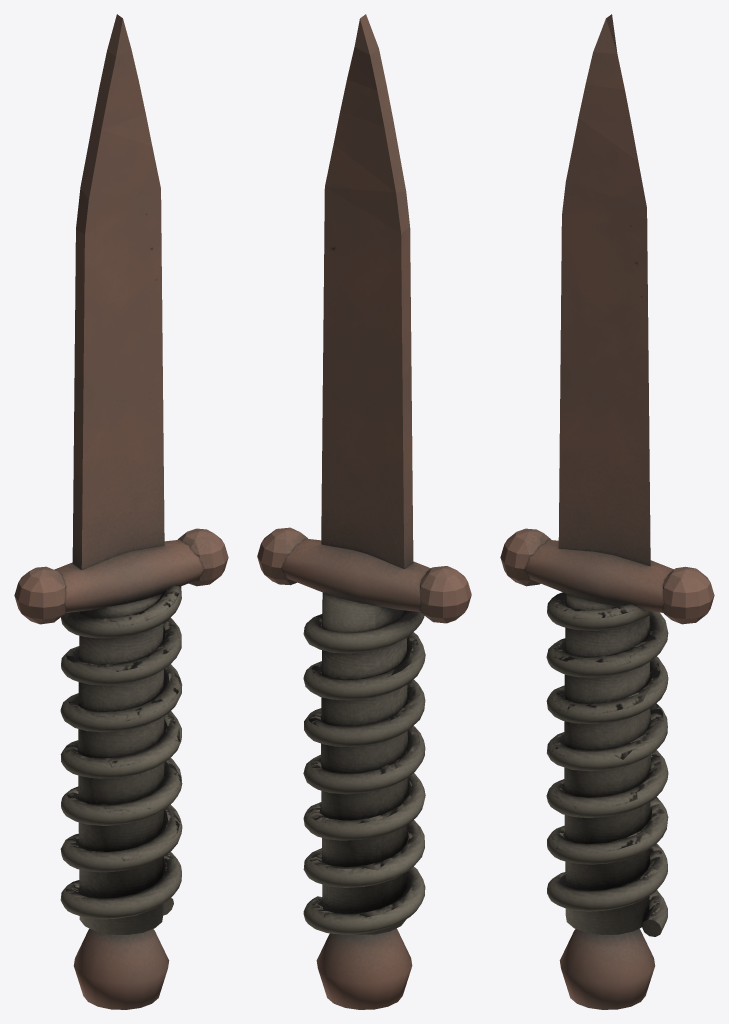
File: arma_faca_enferrujada.glb
3 views of the same model, side by side, from view 1: azimuth 30°, elevation 25°; view 2: azimuth 150°, elevation 25°; view 3: azimuth 330°, elevation 25° (orthographic).
Visible parts, largest first — view 1: arma_faca_enferrujada; view 2: arma_faca_enferrujada; view 3: arma_faca_enferrujada.
Part boxes in pixels (box(x1,y1,x2,y2)): arma_faca_enferrujada: box(14, 14, 228, 1009); arma_faca_enferrujada: box(257, 14, 471, 1009); arma_faca_enferrujada: box(500, 14, 714, 1009).
Bounding box in the file's own units: 0.0792 × 0.3612 × 0.0406.
Materials: 1 (1 with a texture image).
